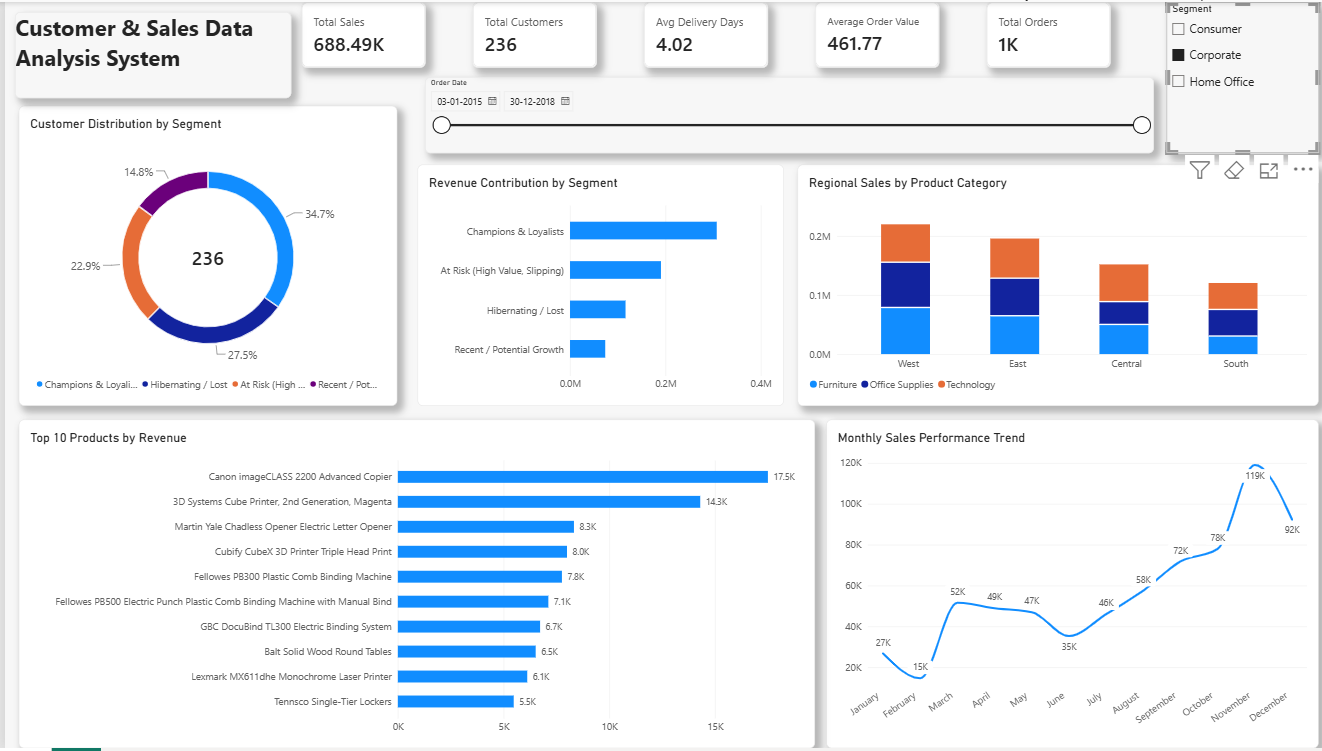

What the dashboard file says about the page in this screenshot:
{"tool":"powerbi","page":{"name":"Page 1","canvas":[1920,1080],"ordinal":0},"visuals":[{"type":"cardVisual","fields":{"Data":["cleaned_sales_rfm.Total Sales"]},"box":[428.1,0,180,95],"z":0},{"type":"cardVisual","fields":{"Data":["cleaned_sales_rfm.Total Customers"]},"box":[676.2,0,180,95],"z":1000},{"type":"cardVisual","fields":{"Data":["cleaned_sales_rfm.Avg Delivery Days"]},"box":[924.4,0,180,95],"z":2000},{"type":"donutChart","title":"Customer Distribution by Segment","fields":{"Category":["cleaned_sales_rfm.Customer_Segment"],"Y":["cleaned_sales_rfm.Total Customers"]},"box":[19.9,150.2,548.3,434.3],"z":3000},{"type":"columnChart","title":"Regional Sales by Product Category","fields":{"Category":["cleaned_sales_rfm.Region"],"Series":["cleaned_sales_rfm.Category"],"Y":["cleaned_sales_rfm.Total Sales"]},"box":[1147.3,235.3,754.6,349.3],"z":5000},{"type":"slicer","fields":{"Values":["cleaned_sales_rfm.Order Date"]},"box":[608,108.6,1055,110.4],"z":6000},{"type":"slicer","fields":{"Values":["cleaned_sales_rfm.Segment"]},"box":[1681.2,0,220.8,219],"z":7000},{"type":"textbox","box":[14.5,14.5,399.9,124.9],"z":8000},{"type":"lineChart","title":"Monthly Sales Performance  Trend","fields":{"Category":["cleaned_sales_rfm.Order Date.Variation.Date Hierarchy.Month"],"Y":["cleaned_sales_rfm.Total Sales"]},"box":[1188.9,604.4,713,475.9],"z":9000},{"type":"cardVisual","fields":{"Data":["cleaned_sales_rfm.Average Order Value"]},"box":[1172.5,0,180,95],"z":10000},{"type":"cardVisual","fields":{"Data":["cleaned_sales_rfm.Total Orders"]},"box":[1420.6,0,180,95],"z":11000},{"type":"clusteredBarChart","title":"Top 10 Products by Revenue","fields":{"Category":["cleaned_sales_rfm.Product Name"],"Y":["cleaned_sales_rfm.Total Sales"]},"box":[19.9,604.4,1152.8,475.9],"z":12000},{"type":"clusteredBarChart","title":"Revenue Contribution by Segment","fields":{"Category":["cleaned_sales_rfm.Customer_Segment"],"Y":["cleaned_sales_rfm.Total Sales"]},"box":[597.2,235.3,530.2,349.3],"z":12001}]}

Visuals, with their boxes on the page's 1920x1080 design canvas (x1, y1, x2, y2). These are canvas units, not pixel positions in the 1322x751 screenshot, which may show the page scaled, cropped or inside an application window:
cardVisual - cleaned_sales_rfm.Total Sales: 428 0 608 95
cardVisual - cleaned_sales_rfm.Total Customers: 676 0 856 95
cardVisual - cleaned_sales_rfm.Avg Delivery Days: 924 0 1104 95
"Customer Distribution by Segment" donutChart: 20 150 568 584
"Regional Sales by Product Category" columnChart: 1147 235 1902 585
slicer - cleaned_sales_rfm.Order Date: 608 109 1663 219
slicer - cleaned_sales_rfm.Segment: 1681 0 1902 219
textbox: 14 14 414 139
"Monthly Sales Performance  Trend" lineChart: 1189 604 1902 1080
cardVisual - cleaned_sales_rfm.Average Order Value: 1172 0 1352 95
cardVisual - cleaned_sales_rfm.Total Orders: 1421 0 1601 95
"Top 10 Products by Revenue" clusteredBarChart: 20 604 1173 1080
"Revenue Contribution by Segment" clusteredBarChart: 597 235 1127 585
